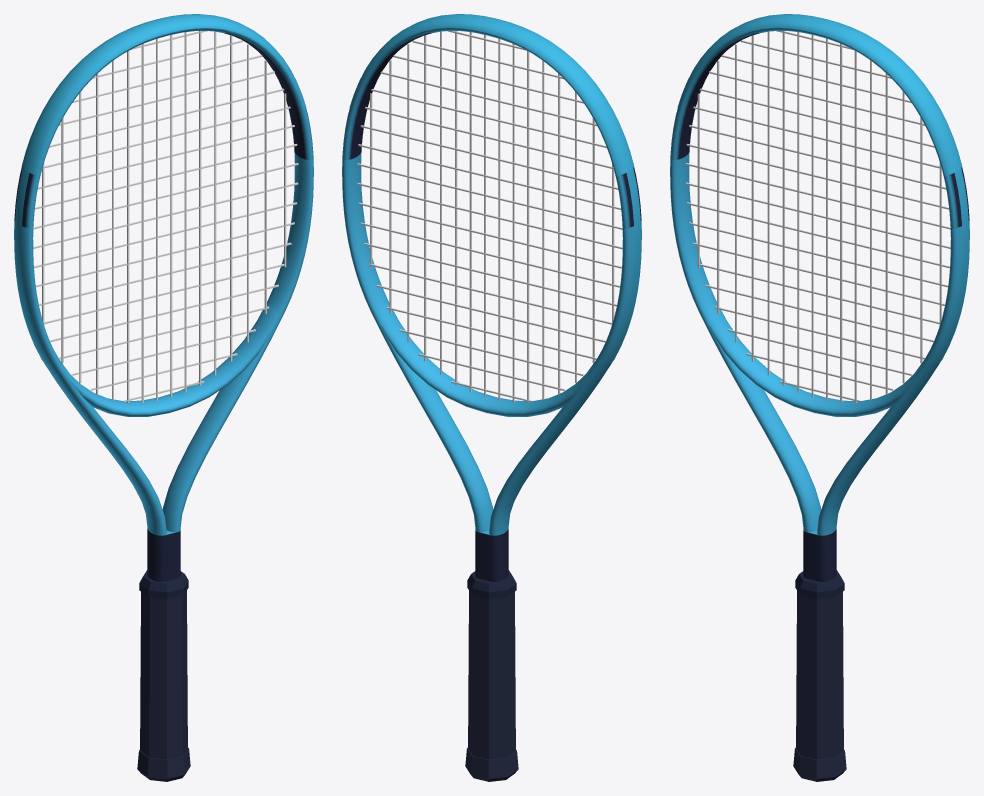
File: head-boom-junior-26-2026.glb
3 renders of one model, left to right at view 1: azimuth 30°, elevation 25°; view 2: azimuth 150°, elevation 25°; view 3: azimuth 330°, elevation 25°, orthographic.
Parts seen in each view (by area): view 1: frame, strings_mains, strings_crosses, grip, bumper, grommets, butt_cap, collar; view 2: frame, strings_mains, strings_crosses, grip, bumper, grommets, butt_cap, collar; view 3: frame, strings_mains, strings_crosses, grip, bumper, grommets, butt_cap, collar.
Boxes of the visible parts, x1,y1,x2,y2 form: frame: [14, 28, 313, 581]; strings_mains: [42, 31, 286, 402]; strings_crosses: [33, 31, 298, 402]; grip: [140, 591, 187, 759]; bumper: [21, 14, 306, 175]; grommets: [14, 168, 48, 364]; butt_cap: [137, 747, 190, 781]; collar: [139, 570, 188, 599]; frame: [342, 28, 641, 581]; strings_mains: [370, 31, 614, 402]; strings_crosses: [357, 31, 622, 402]; grip: [468, 591, 515, 759]; bumper: [349, 14, 634, 175]; grommets: [607, 168, 641, 364]; butt_cap: [465, 747, 518, 781]; collar: [467, 570, 516, 599]; frame: [670, 28, 969, 581]; strings_mains: [697, 31, 941, 402]; strings_crosses: [685, 31, 950, 402]; grip: [796, 591, 843, 759]; bumper: [677, 14, 962, 175]; grommets: [935, 168, 969, 364]; butt_cap: [793, 747, 846, 781]; collar: [795, 570, 844, 599].
Size of the model in its own units: 0.2696 by 0.6607 by 0.0396.
